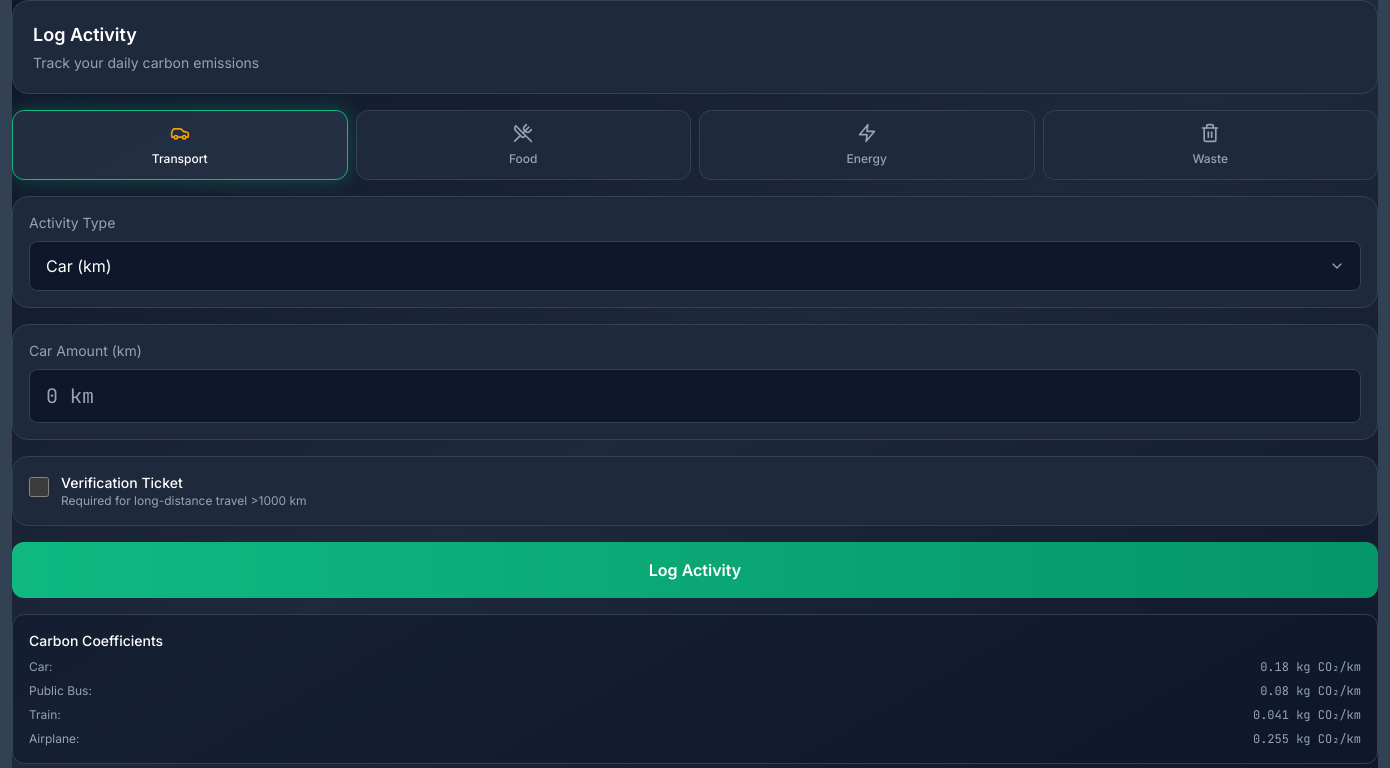
ActivityLogger – Category Selection › switches to food category on click
Step 1. Click the button with aria-label "select food category" → (523, 145), box [356,110,691,180]
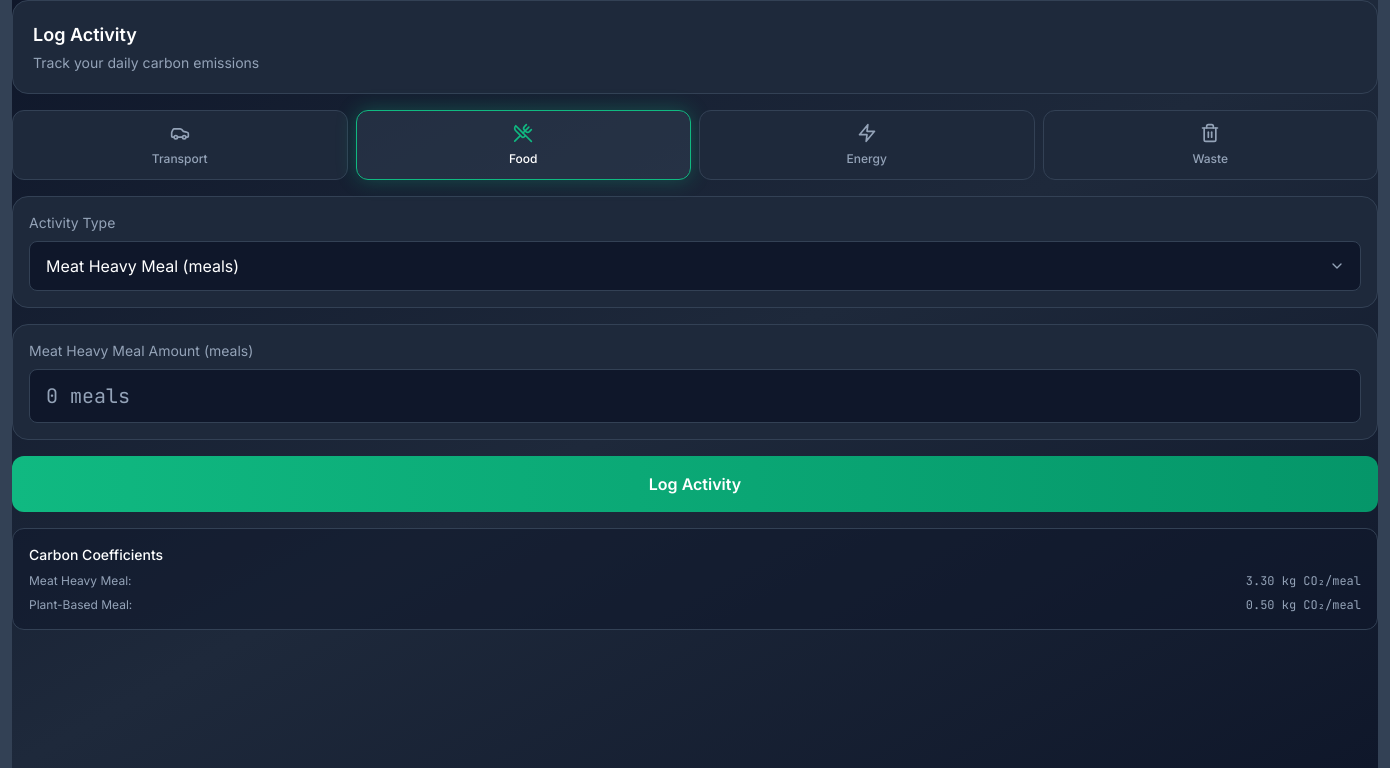
Check: the dropdown labelled "Activity Type" shows "Meat Heavy Meal (meals)", box [29,241,1361,291]
